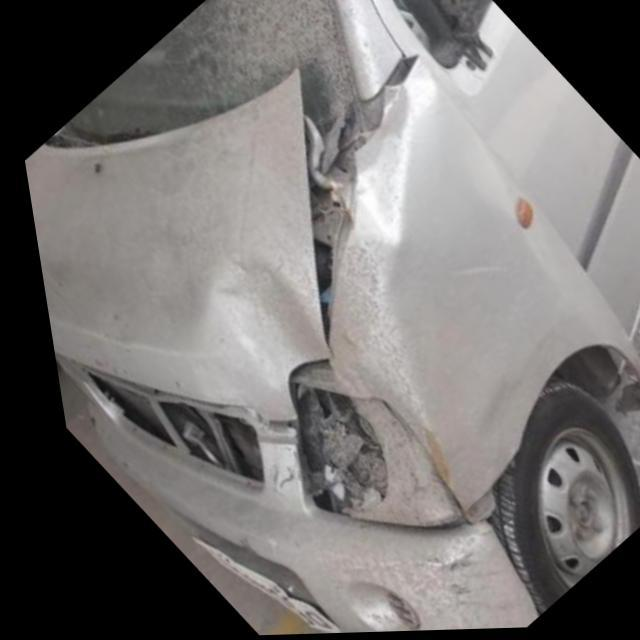dent: (183, 252, 316, 425)
dislocated part: (295, 58, 421, 360)
no part: (271, 360, 450, 534)
